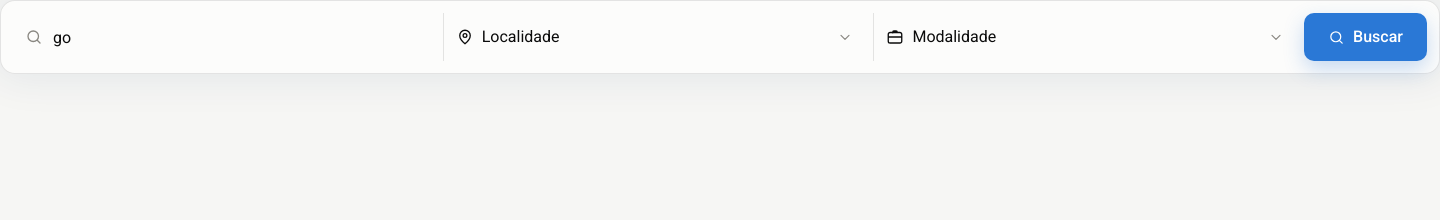
Test case: SearchForm autocomplete › suggests roles and companies once the term is long enough
Click the dropdown named "Buscar por cargo" at (237, 37), box left=51, top=13, right=423, bottom=61
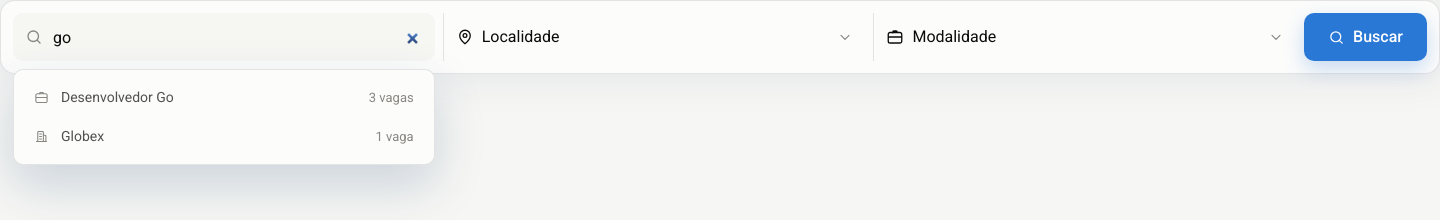
Expected: the option "Desenvolvedor Go 3 vagas" is shown, left=34, top=89, right=414, bottom=105
Expected: the option "Globex 1 vaga" is shown, left=34, top=128, right=414, bottom=144
Expected: the dropdown named "Buscar por cargo" is expanded, left=51, top=13, right=423, bottom=61
